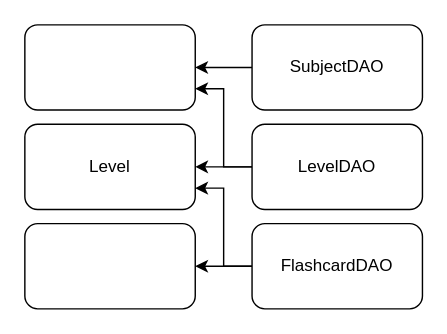
This 447x334 diagram has some shape labels left out. Here are the shapes that lost their labels. From the top down, the centre of each, then its label:
(109,66): Subject
(109,265): Flashcard
